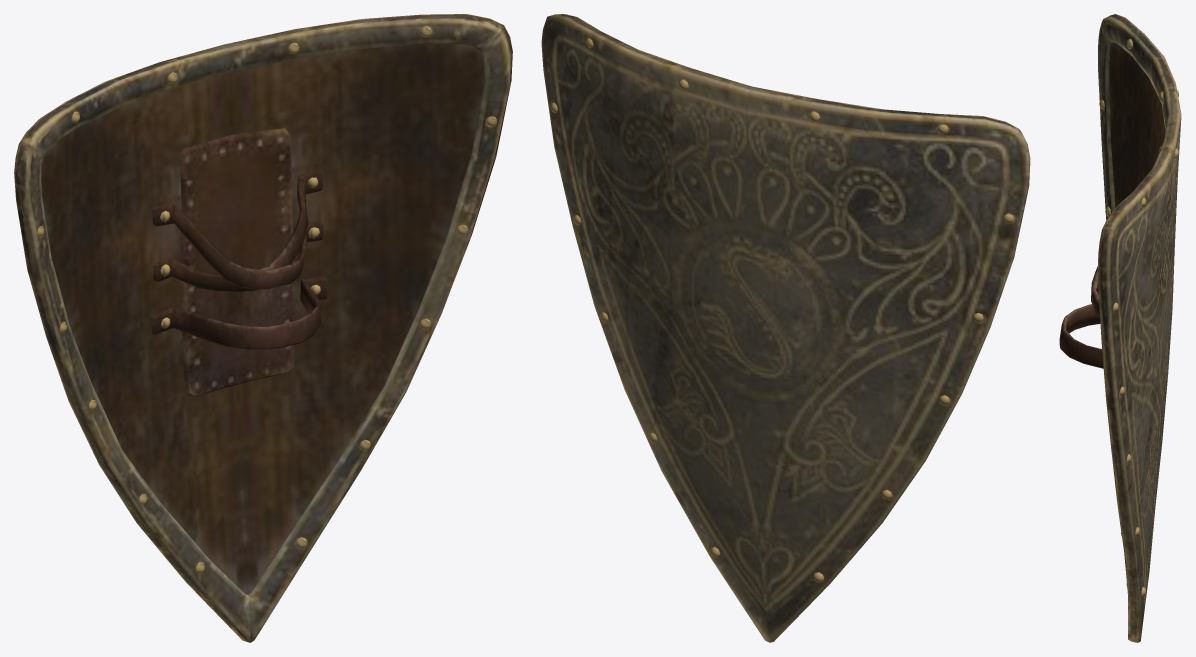
File: weapon-wp_a_2203.glb
3 renders of one model, left to right at view 1: azimuth 30°, elevation 25°; view 2: azimuth 150°, elevation 25°; view 3: azimuth 270°, elevation 25°, orthographic. The views are drawn at different scales.
Visible parts, largest first — view 1: wp_a_2203_mesh; view 2: wp_a_2203_mesh; view 3: wp_a_2203_mesh.
Boxes of the visible parts, x1,y1,x2,y2 form: wp_a_2203_mesh: [14, 14, 512, 642]; wp_a_2203_mesh: [541, 14, 1030, 642]; wp_a_2203_mesh: [1059, 14, 1181, 642].
Bounding box in the file's own units: 0.6958 × 0.7772 × 0.1616.
1 material, 1 textured.
